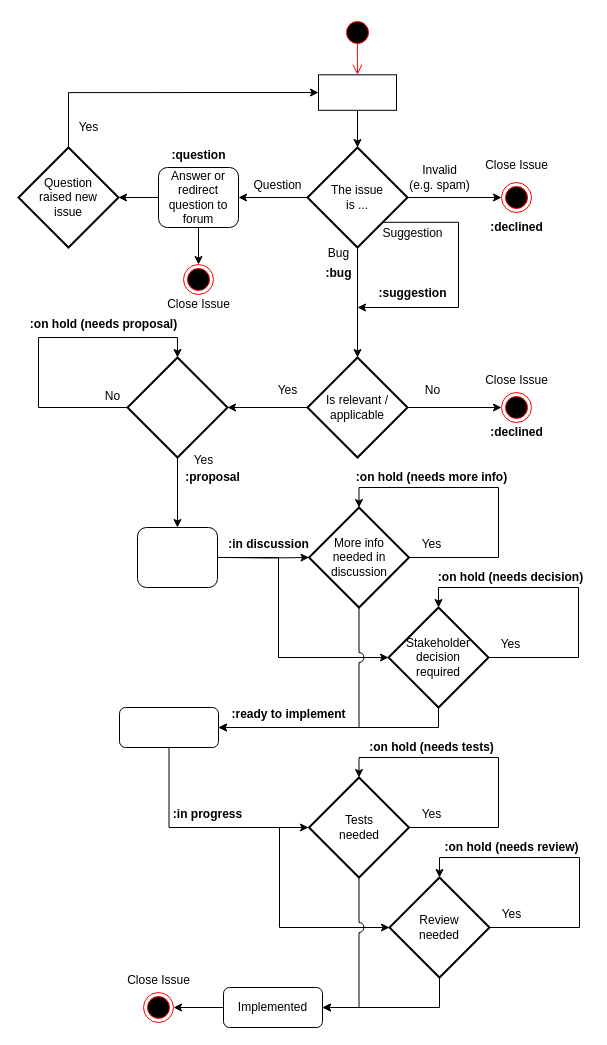
Image size: 607x1045. Some labels were removed from this diagram. Here are the shapes that lost their labels. From the top down, the centre of each, then its label:
[357,92]: New Issue
[177,407]: Issue sufficiently detailed / clear
[177,557]: Select issue for discussion
[168,727]: Select issue for implementation
